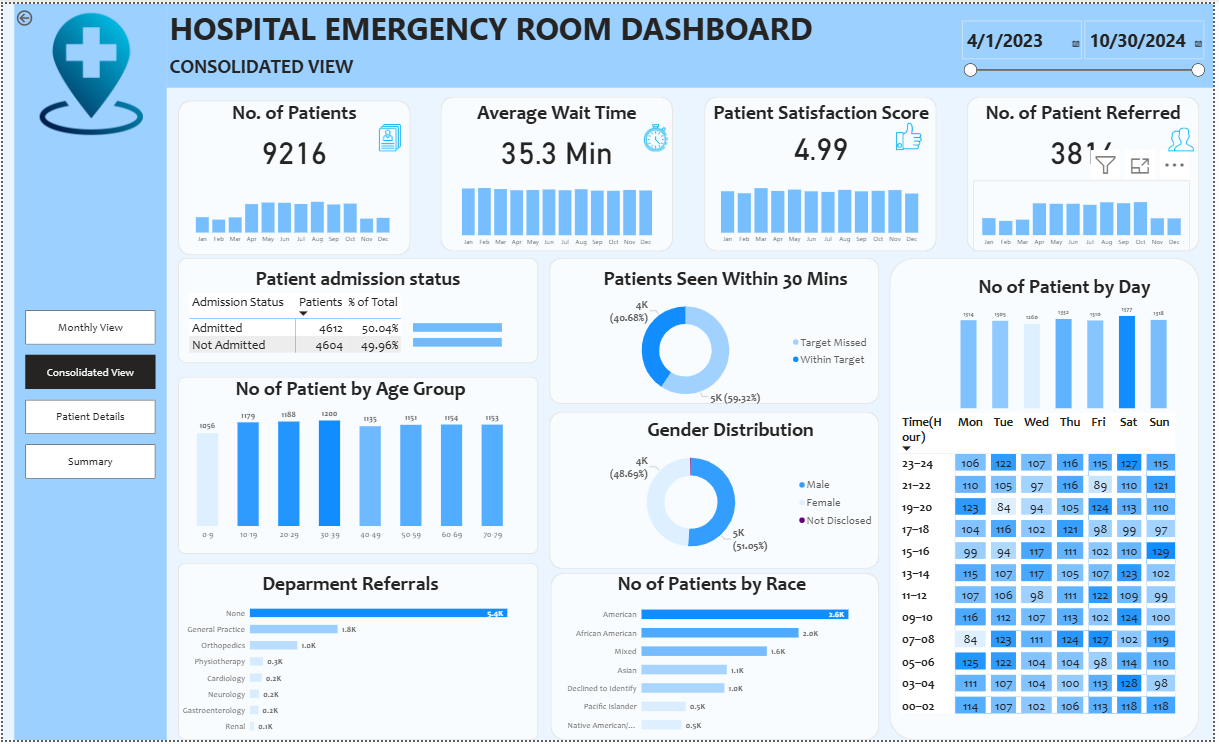

The page's visual inventory and layout, read from the dashboard file:
{"tool":"powerbi","page":{"name":"Consolidated  View","canvas":[2302,1400],"ordinal":1},"visuals":[{"type":"shape","box":[21.4,0,290.1,1400.5],"z":0},{"type":"shape","box":[311.5,0,1990.2,159.3],"z":1000},{"type":"textbox","box":[310.8,0,1265.3,90.6],"z":2000},{"type":"textbox","box":[311.5,90.4,544.5,69],"z":3000},{"type":"slicer","title":"DATE","fields":{"Values":["Date Table.Date"]},"box":[1811.8,21.4,482.7,118.9],"z":4000},{"type":"shape","box":[332.9,183.1,442.3,294.8],"z":5000},{"type":"card","title":"No. of Patients","fields":{"Values":["All measures.No of Patient"]},"box":[389.9,183.1,328.1,140.3],"z":6000},{"type":"clusteredColumnChart","fields":{"Category":["Date Table.Month Name"],"Y":["All measures.No of Patient"]},"box":[350,335.3,403.8,129.7],"z":7000},{"type":"shape","box":[833,176,442.3,294.8],"z":8000},{"type":"shape","box":[1833.2,176,442.3,294.8],"z":9000},{"type":"shape","box":[1333.1,176,442.3,294.8],"z":10000},{"type":"card","title":"Average Wait Time","fields":{"Values":["All measures.Average wait time"]},"box":[889.3,183.1,328.1,140.3],"z":11000},{"type":"card","title":"No. of Patient Referred","fields":{"Values":["All measures.No. of Patient Referred"]},"box":[1861.8,183.1,385.2,142.7],"z":12000},{"type":"clusteredColumnChart","fields":{"Category":["Date Table.Month Name"],"Y":["Avg(hospital data.Patient Waittime)"]},"box":[856.6,327.9,396.5,141.9],"z":13000},{"type":"actionButton","box":[22,7.3,105.2,39.2],"z":14000},{"type":"card","title":"Patient Satisfaction Score","fields":{"Values":["All measures.Patient Satisfaction score"]},"box":[1336.3,183.1,439.9,126],"z":15000},{"type":"clusteredColumnChart","fields":{"Y":["All measures.Patient Satisfaction score"],"Category":["Date Table.Month Name"]},"box":[1348.5,325.5,411.2,139.5],"z":16000},{"type":"clusteredColumnChart","fields":{"Category":["Date Table.Month Name"],"Y":["All measures.No. of Patient Referred"]},"box":[1845.3,335.3,413.6,134.6],"z":17000},{"type":"shape","box":[332.8,482.1,685.3,200.7],"z":18000},{"type":"pivotTable","title":"Patient admission status","fields":{"Rows":["hospital data.Patient Admission status"],"Values":["All measures.No of Patient","Divide(All measures.No of Patient, ScopedEval(All measures.No of Patient, []))"]},"box":[350,499.3,651,210.5],"z":19000},{"type":"clusteredBarChart","title":"Patient admission status","fields":{"Category":["hospital data.Patient Admission status"],"Y":["All measures.No of Patient"]},"box":[775.8,580,230,93],"z":20000},{"type":"shape","box":[332.8,709.7,685.3,337.7],"z":21000},{"type":"clusteredColumnChart","fields":{"Category":["hospital data.Age Group"],"Y":["All measures.No of Patient"]},"box":[332.9,708.6,656.3,318.6],"z":22000},{"type":"shape","box":[332.8,1062.1,685.3,337.7],"z":23000},{"type":"clusteredBarChart","title":"Deparment  Referrals","fields":{"Category":["hospital data.Department Referral"],"Y":["All measures.No of Patient"]},"box":[332.8,1079.3,655.9,320.6],"z":24000},{"type":"shape","box":[1039.1,482.7,627.7,278.2],"z":25000},{"type":"donutChart","title":"Patients Seen Within 30 Mins","fields":{"Category":["hospital data.wait time status"],"Y":["All measures.No of Patient"]},"box":[1091.4,499.3,565.9,273.4],"z":26000},{"type":"shape","box":[1039.1,775.1,627.7,299.6],"z":27000},{"type":"donutChart","title":"Gender Distribution","fields":{"Y":["All measures.No of Patient"],"Category":["hospital data.Patient Gender"]},"box":[1100.9,787,565.9,275.8],"z":28000},{"type":"shape","box":[1041.4,1081.9,625.3,318.6],"z":29000},{"type":"clusteredBarChart","title":"No of  Patients by Race","fields":{"Y":["All measures.No of Patient"],"Category":["hospital data.Patient Race"]},"box":[1055.7,1079.5,584.9,321],"z":30000},{"type":"shape","box":[1685.8,482.7,589.7,917.8],"z":31000},{"type":"pivotTable","fields":{"Rows":["hospital data.Wait time interval"],"Columns":["Date Table.Day Name"],"Values":["All measures.No of Patient"]},"box":[1700.1,772.8,575.4,627.7],"z":32000},{"type":"clusteredColumnChart","title":"No of Patient by Day ","fields":{"Y":["All measures.No of Patient"],"Category":["Date Table.Day Name"]},"box":[1816.6,513.6,404.2,261.6],"z":33000},{"type":"image","box":[45.2,11.9,244.9,242.5],"z":34000},{"type":"image","box":[696.7,223.5,78.5,61.8],"z":35000},{"type":"image","box":[2206.5,230.6,69,54.7],"z":36000},{"type":"image","box":[1685.8,221.1,73.7,61.8],"z":37000},{"type":"image","box":[1207.9,223.5,66.6,61.8],"z":38000},{"type":"pageNavigator","box":[42.8,582.5,247.3,321],"z":39000}]}

Visuals, with their boxes on the page's 2302x1400 design canvas (x1, y1, x2, y2). These are canvas units, not pixel positions in the 1219x744 screenshot, which may show the page scaled, cropped or inside an application window:
shape: box=[21, 0, 312, 1400]
shape: box=[312, 0, 2302, 159]
textbox: box=[311, 0, 1576, 91]
textbox: box=[312, 90, 856, 159]
"DATE" slicer: box=[1812, 21, 2294, 140]
shape: box=[333, 183, 775, 478]
"No. of Patients" card: box=[390, 183, 718, 323]
clusteredColumnChart - Date Table.Month Name x All measures.No of Patient: box=[350, 335, 754, 465]
shape: box=[833, 176, 1275, 471]
shape: box=[1833, 176, 2276, 471]
shape: box=[1333, 176, 1775, 471]
"Average Wait Time" card: box=[889, 183, 1217, 323]
"No. of Patient Referred" card: box=[1862, 183, 2247, 326]
clusteredColumnChart - Date Table.Month Name x Avg(hospital data.Patient Waittime): box=[857, 328, 1253, 470]
actionButton: box=[22, 7, 127, 46]
"Patient Satisfaction Score" card: box=[1336, 183, 1776, 309]
clusteredColumnChart - All measures.Patient Satisfaction score x Date Table.Month Name: box=[1348, 326, 1760, 465]
clusteredColumnChart - Date Table.Month Name x All measures.No. of Patient Referred: box=[1845, 335, 2259, 470]
shape: box=[333, 482, 1018, 683]
"Patient admission status" pivotTable: box=[350, 499, 1001, 710]
"Patient admission status" clusteredBarChart: box=[776, 580, 1006, 673]
shape: box=[333, 710, 1018, 1047]
clusteredColumnChart - hospital data.Age Group x All measures.No of Patient: box=[333, 709, 989, 1027]
shape: box=[333, 1062, 1018, 1400]
"Deparment  Referrals" clusteredBarChart: box=[333, 1079, 989, 1400]
shape: box=[1039, 483, 1667, 761]
"Patients Seen Within 30 Mins" donutChart: box=[1091, 499, 1657, 773]
shape: box=[1039, 775, 1667, 1075]
"Gender Distribution" donutChart: box=[1101, 787, 1667, 1063]
shape: box=[1041, 1082, 1667, 1400]
"No of  Patients by Race" clusteredBarChart: box=[1056, 1080, 1641, 1400]
shape: box=[1686, 483, 2276, 1400]
pivotTable - hospital data.Wait time interval x Date Table.Day Name: box=[1700, 773, 2276, 1400]
"No of Patient by Day " clusteredColumnChart: box=[1817, 514, 2221, 775]
image: box=[45, 12, 290, 254]
image: box=[697, 224, 775, 285]
image: box=[2206, 231, 2276, 285]
image: box=[1686, 221, 1760, 283]
image: box=[1208, 224, 1274, 285]
pageNavigator: box=[43, 582, 290, 904]
